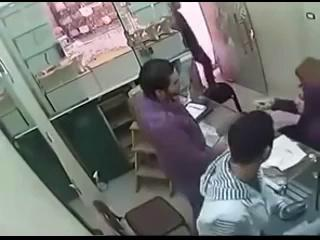Normal: (133, 59, 221, 220), (197, 111, 305, 235), (169, 3, 216, 90), (92, 196, 193, 236)
